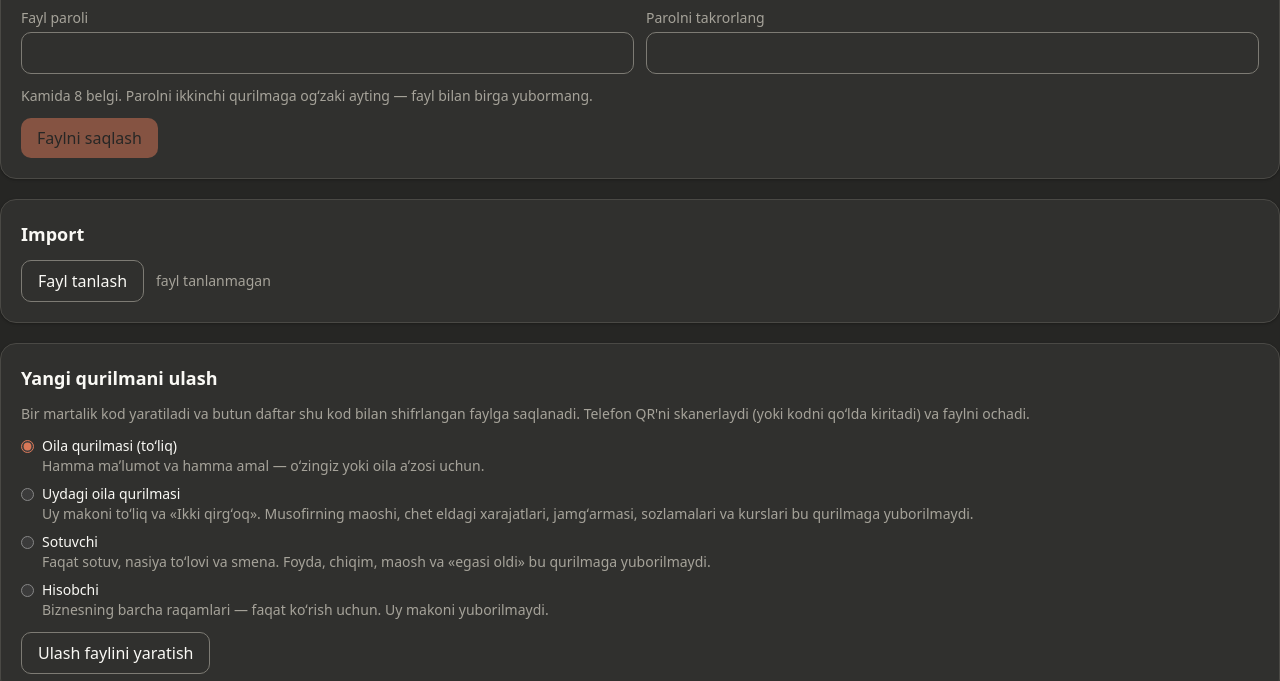
Test: SyncScreen › import: ziddiyat tanlanmaguncha qabul qilinmaydi, yopilgan yozuv ko'rsatiladi
(page scrolled)
Click the button "Fayl tanlash" at (82, 281), box x1=21 y1=260 x2=144 y2=302
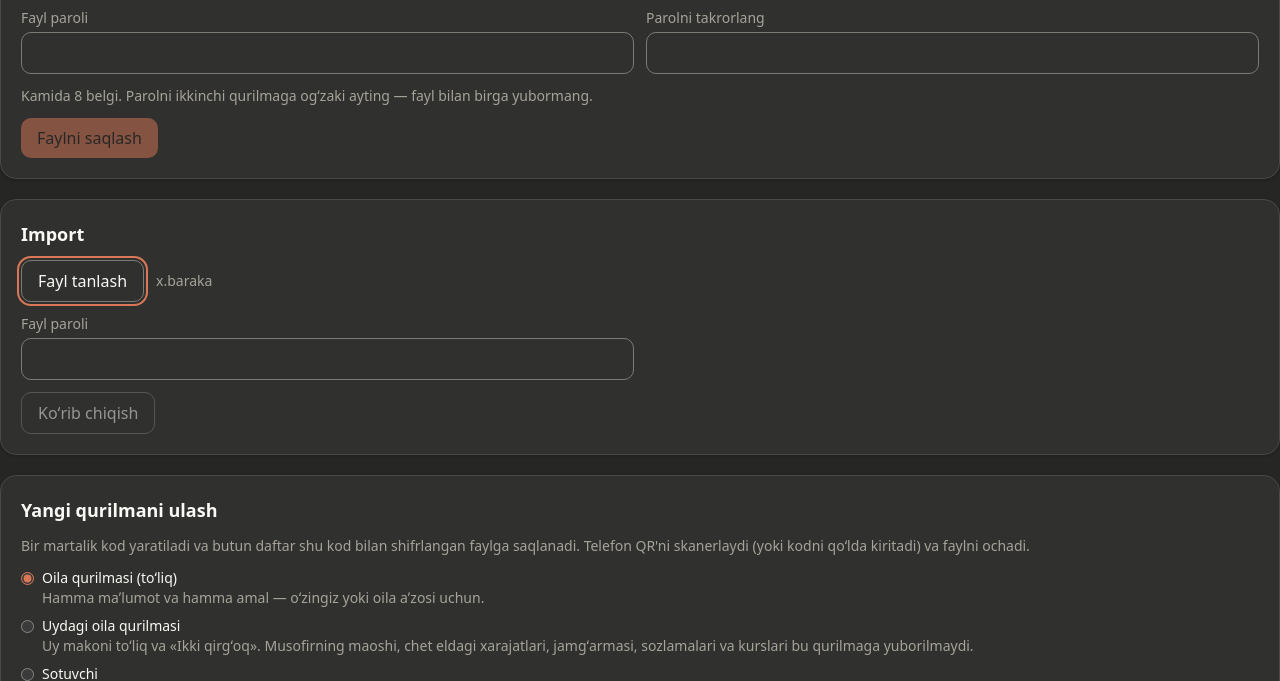
Type "Baraka-2026!" into the password field labelled "Fayl paroli" below "x.baraka" at (328, 359), box x1=21 y1=338 x2=634 y2=380
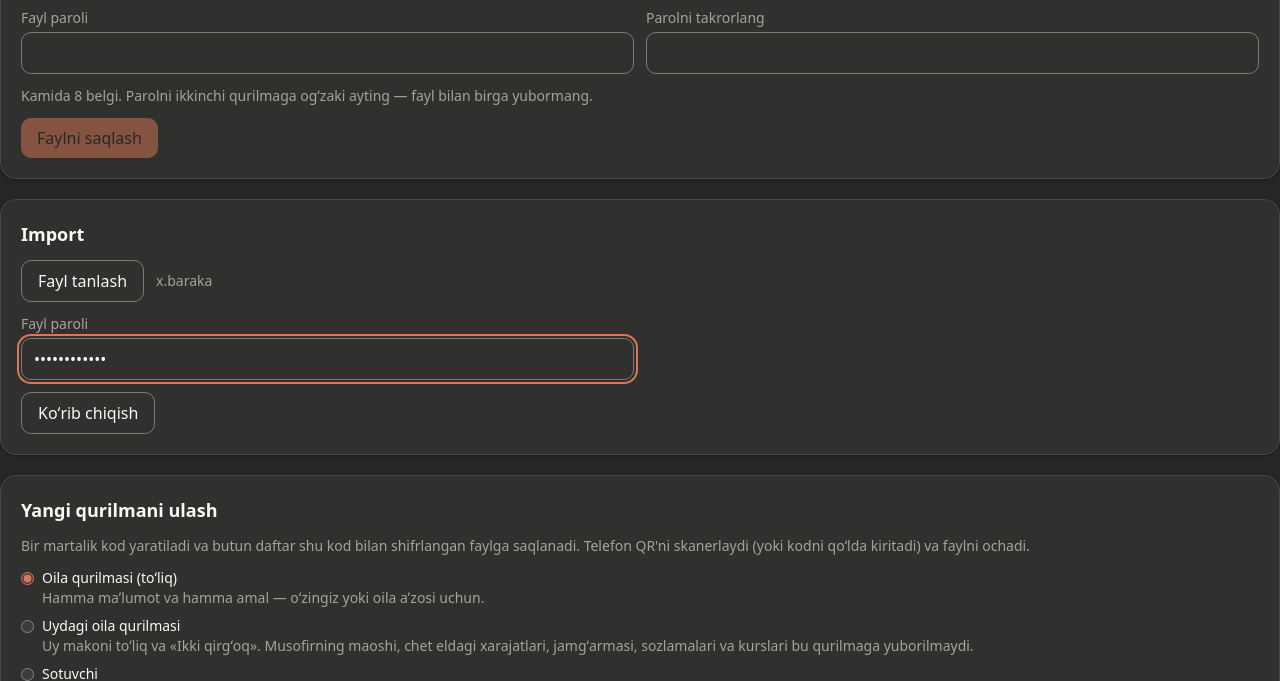
Click the button "Koʻrib chiqish" at (88, 413), box x1=21 y1=392 x2=155 y2=434
(page scrolled)
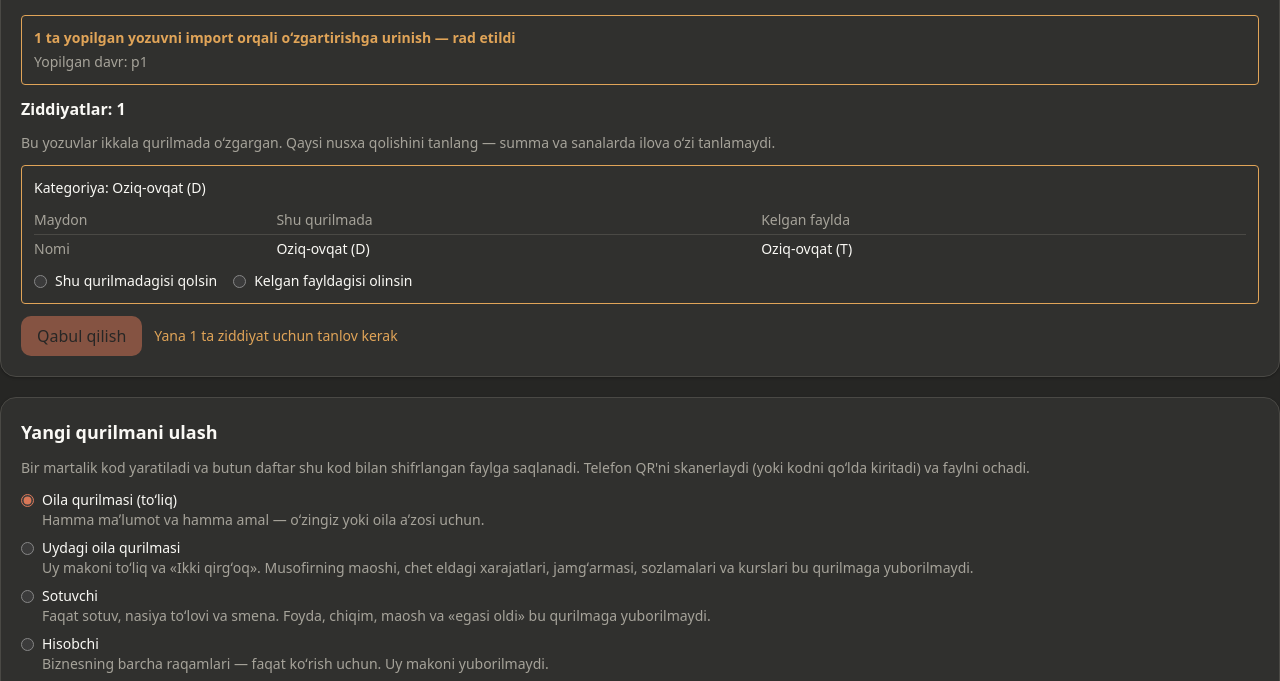
Check: the text "Yopilgan davr: p1" is shown, box x1=34 y1=52 x2=148 y2=71
Check: the text "Oziq-ovqat (T)" is shown, box x1=761 y1=234 x2=1246 y2=263
Check: the button "Qabul qilish" is disabled, box x1=21 y1=316 x2=142 y2=356
Click the radio button labelled "Kelgan fayldagisi olinsin" at (240, 281), box x1=233 y1=274 x2=246 y2=288
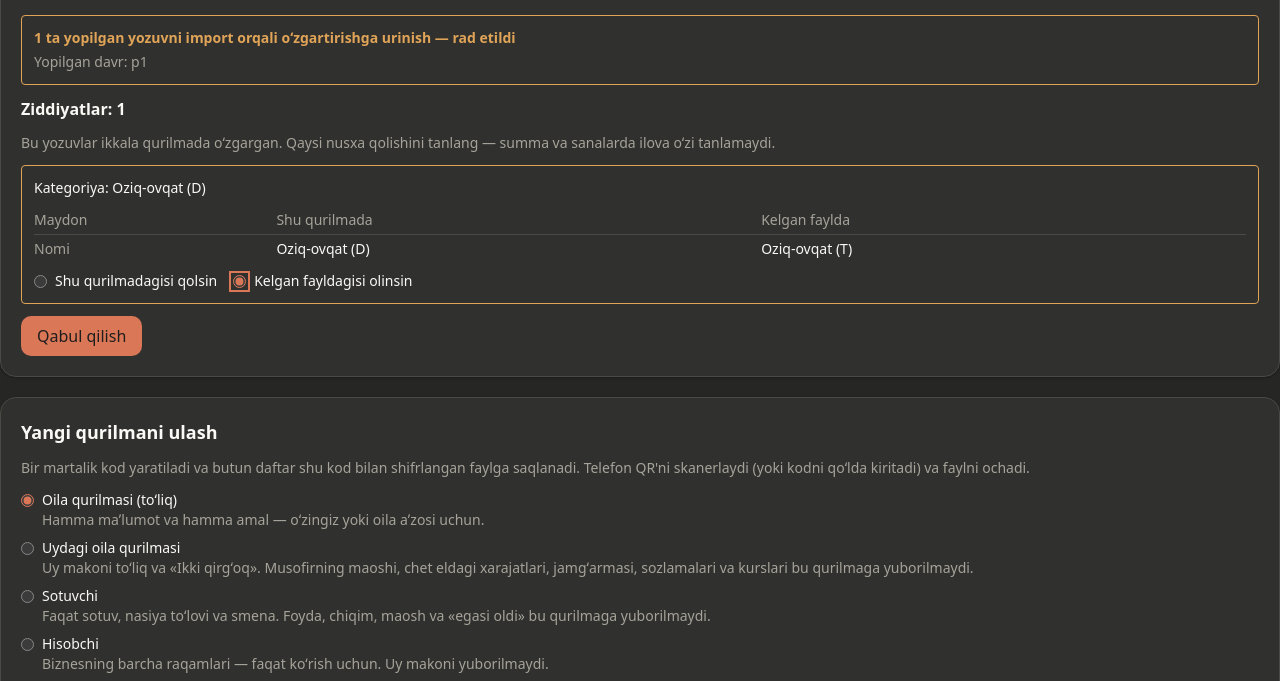
Check: the button "Qabul qilish" is enabled
Click the button "Qabul qilish" at (82, 336), box x1=21 y1=316 x2=142 y2=356
(page scrolled)
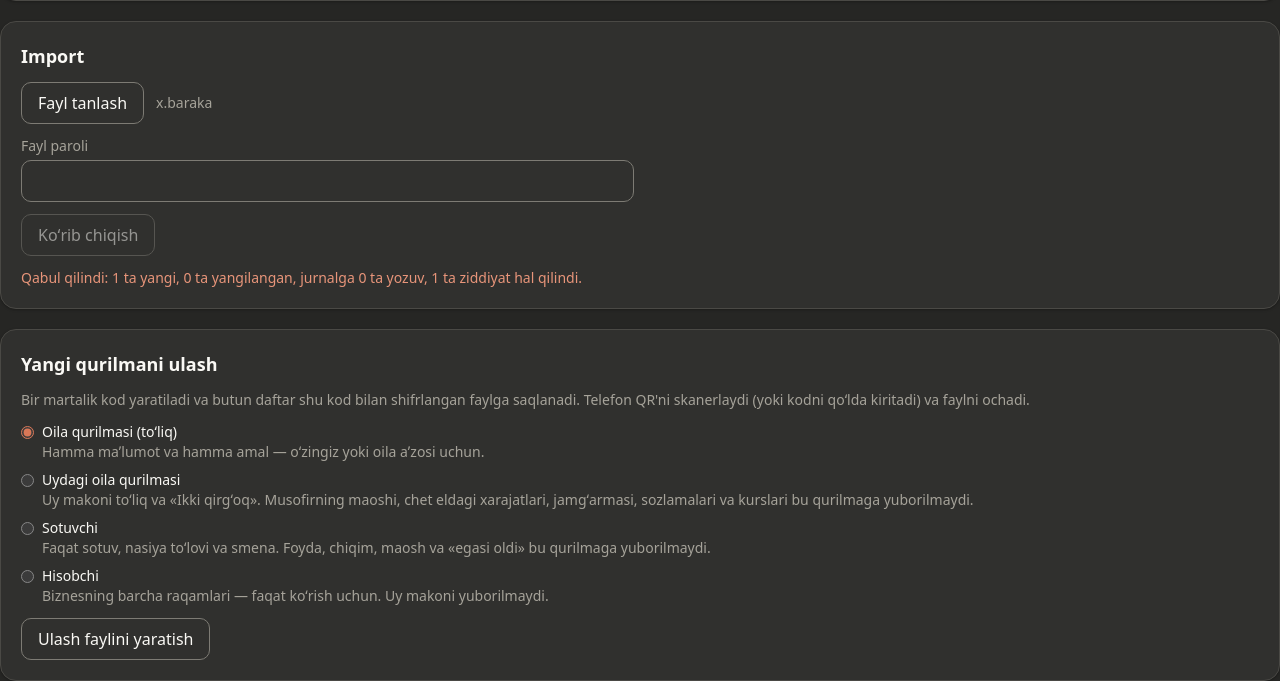
Check: the message shows "1 ta yangi", box x1=21 y1=268 x2=582 y2=287
